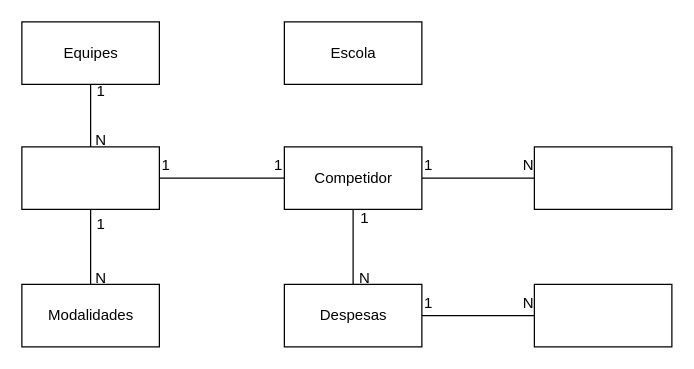
The diagram is 694 pixels wide and 369 high, and some of its shapes have lost their labels. The box of each missing label's shape, as (x1, y1, x2, y2) in pixels:
Frequencia: (533, 146, 672, 209)
TiposDespesa: (533, 283, 672, 347)
Usuarios: (21, 146, 159, 209)
